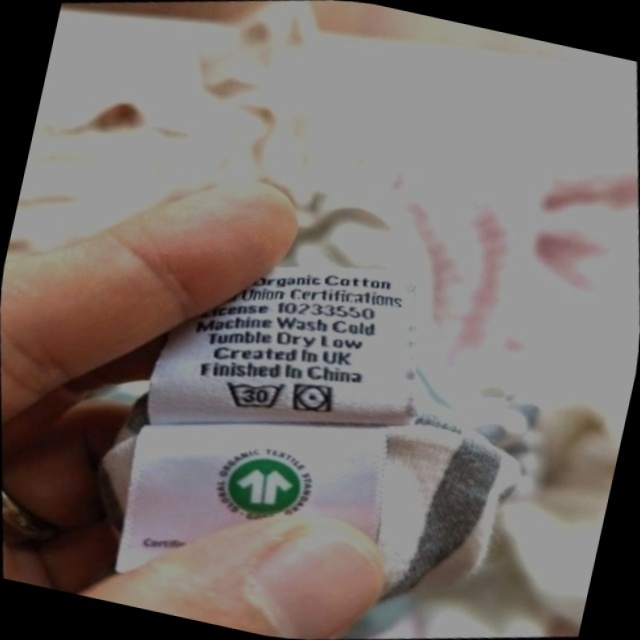30C: (213, 363, 296, 427)
tumble_dry_low: (282, 371, 344, 427)
